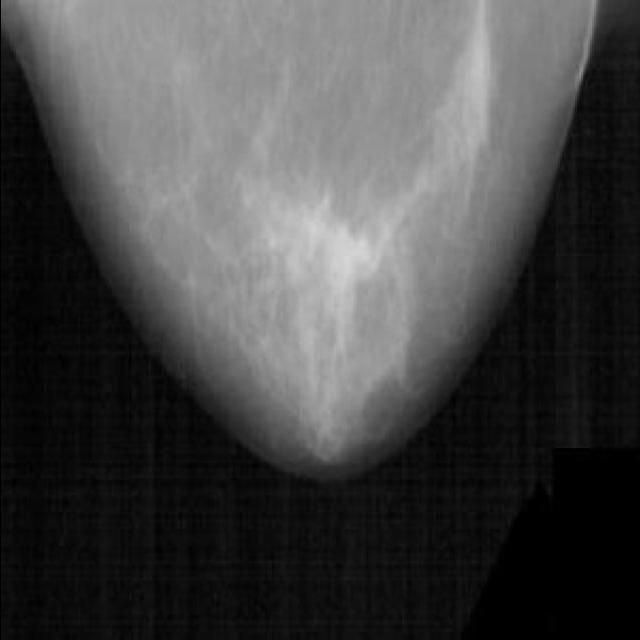tumor: (270, 205, 413, 440)
